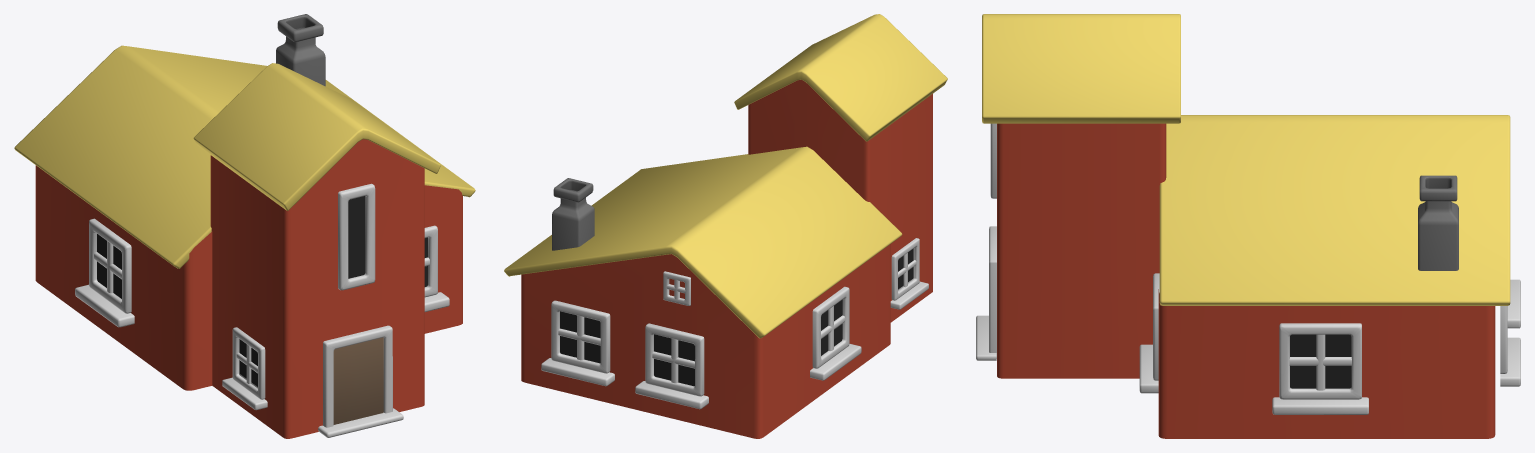
File: House_08.fbx
3 renders of one model, left to right at view 1: azimuth 30°, elevation 25°; view 2: azimuth 150°, elevation 25°; view 3: azimuth 270°, elevation 25°, orthographic. The views are drawn at different scales.
Visible parts, largest first — view 1: House_08; view 2: House_08; view 3: House_08.
Boxes of the visible parts, x1,y1,x2,y2 form: House_08: [14, 14, 475, 438]; House_08: [504, 14, 947, 438]; House_08: [976, 14, 1520, 438].
Bounding box in the file's own units: 5282 × 4840 × 7322.
